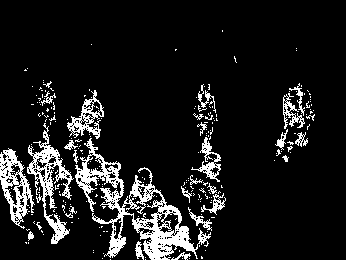person: (79, 153, 130, 259), (27, 138, 75, 247), (185, 152, 226, 251), (137, 202, 199, 260), (126, 165, 166, 248), (1, 148, 36, 242), (191, 81, 220, 157), (75, 85, 106, 149), (35, 78, 60, 142), (292, 90, 315, 150), (280, 84, 297, 158)
